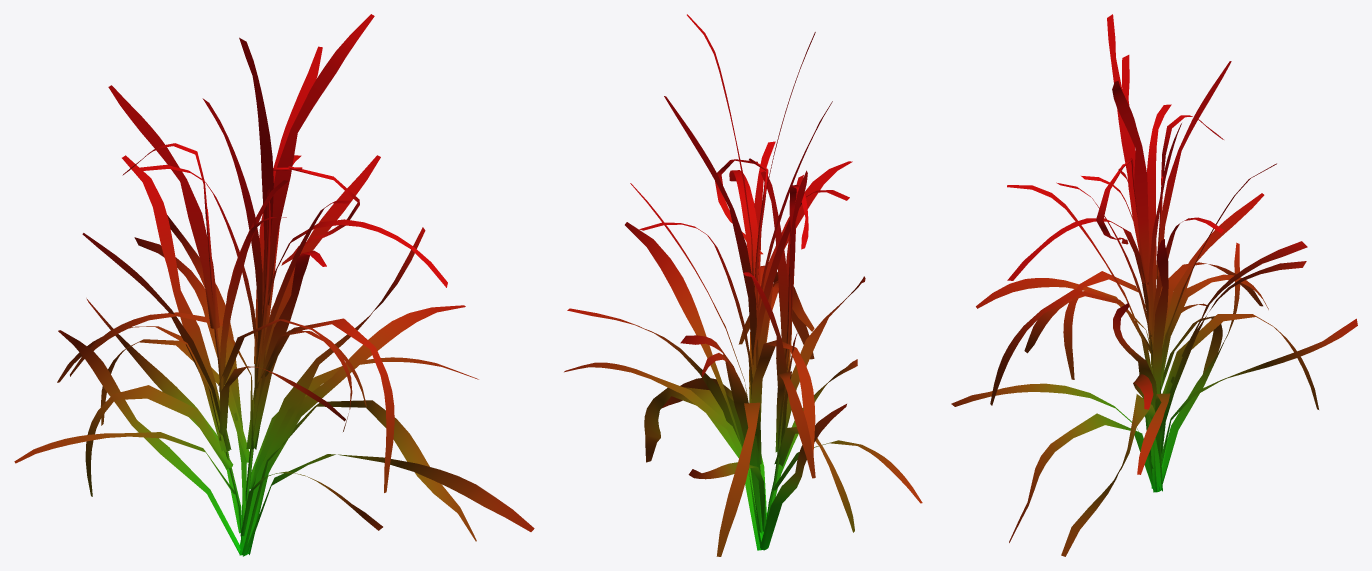
File: tkbidaxia_Var4_LOD0.fbx
The picture shows the model from 3 angles, left to right: view 1: azimuth 30°, elevation 25°; view 2: azimuth 150°, elevation 25°; view 3: azimuth 270°, elevation 25°; orthographic projection. The views are drawn at different scales.
Parts seen in each view (by area): view 1: _adc5_Var4_LOD0; view 2: _adc5_Var4_LOD0; view 3: _adc5_Var4_LOD0.
Boxes of the visible parts, box(x1,y1,x2,y2) form: _adc5_Var4_LOD0: box(14, 14, 534, 556); _adc5_Var4_LOD0: box(564, 14, 922, 556); _adc5_Var4_LOD0: box(951, 14, 1357, 556).
Bounding box in the file's own units: 44.71 × 54.76 × 43.52.
